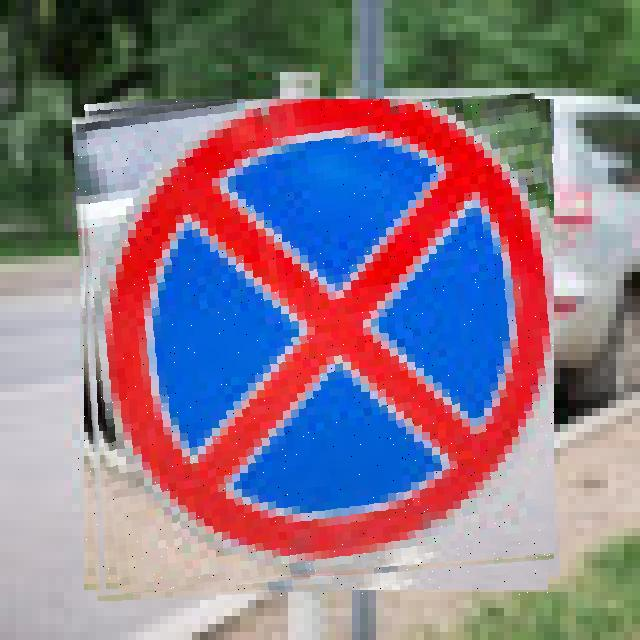no stopping: (78, 99, 554, 596)
